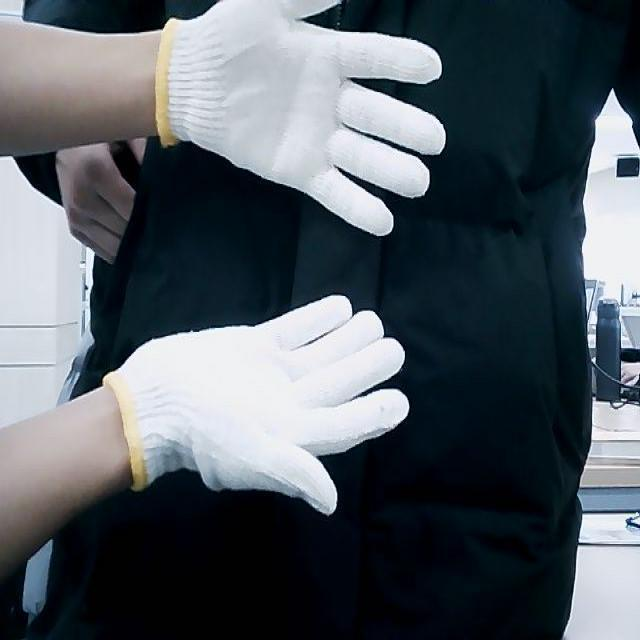gloves: (154, 0, 447, 242), (102, 292, 412, 520)
